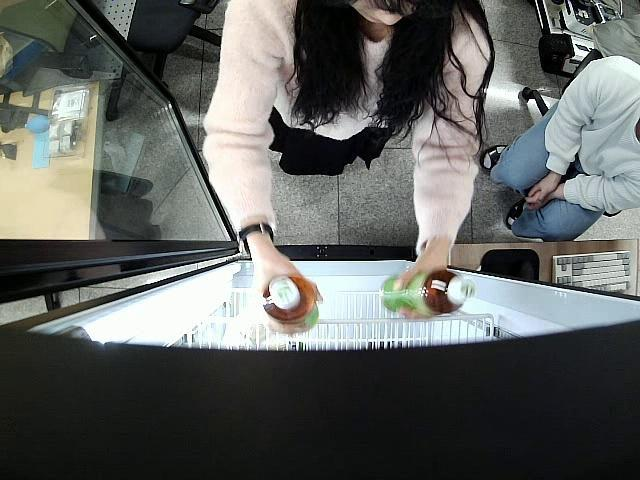19_17cha: (377, 267, 476, 318), (262, 274, 320, 338)
